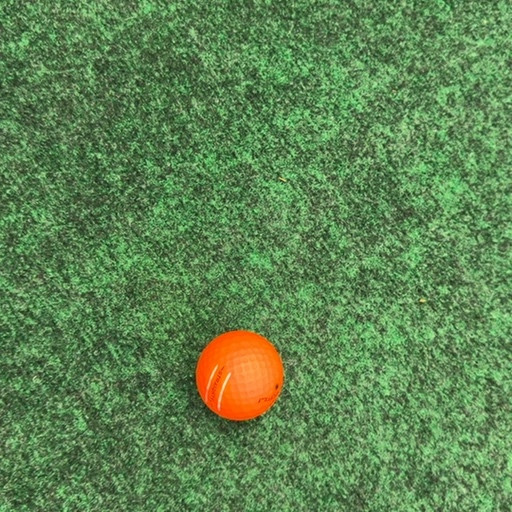Ball: (196, 330, 284, 421)
